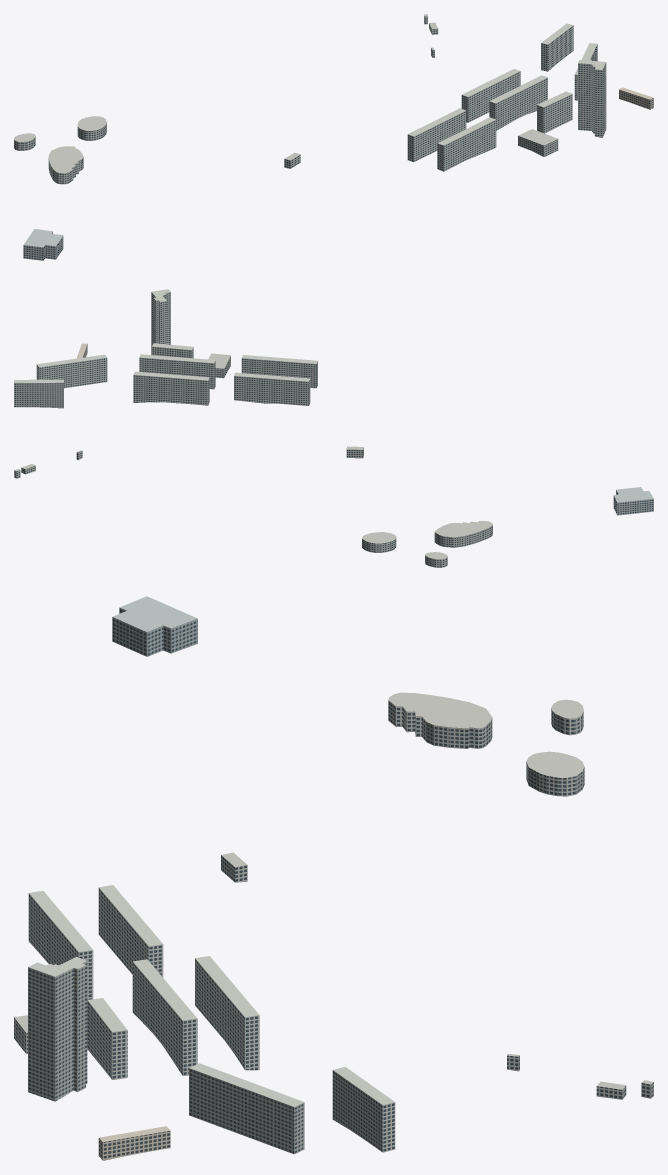
The model's file is city_-2_3.glb.
3 views of the same model, one above another, from view 1: azimuth 30°, elevation 25°; view 2: azimuth 150°, elevation 25°; view 3: azimuth 270°, elevation 25° (orthographic). The views are drawn at different scales.
Size of the model in its own units: 969 by 118 by 472.
4 materials, 4 textured.
